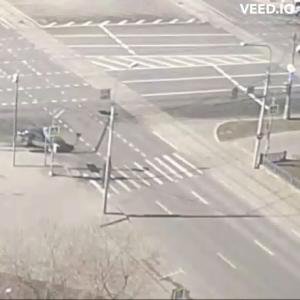car: (18, 128, 64, 152)
